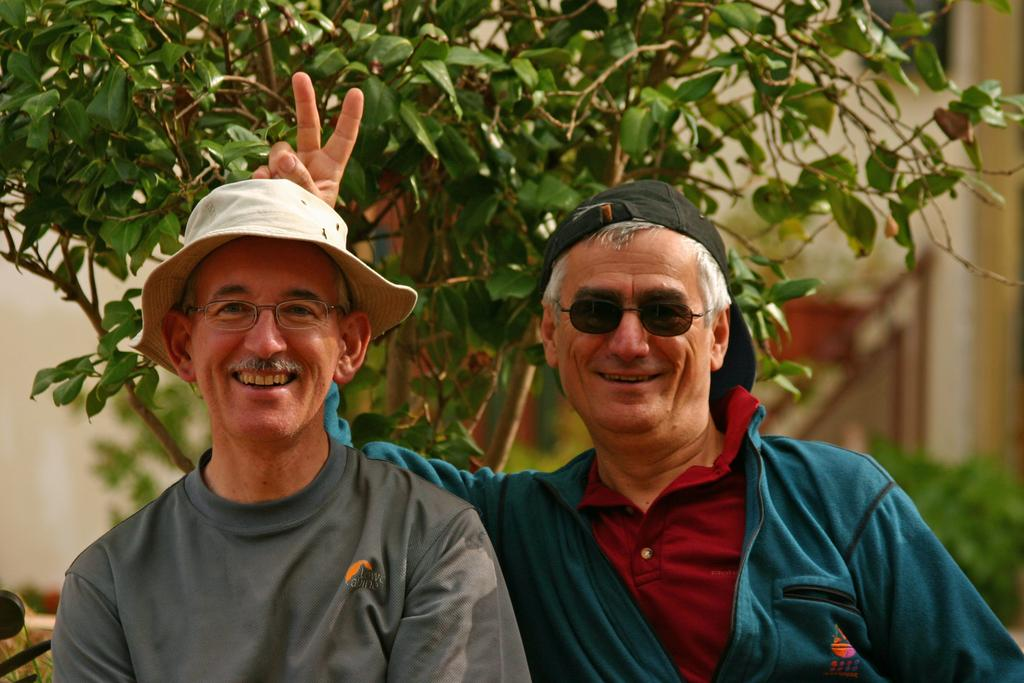Hat: (130, 176, 414, 378), (533, 183, 757, 431)
